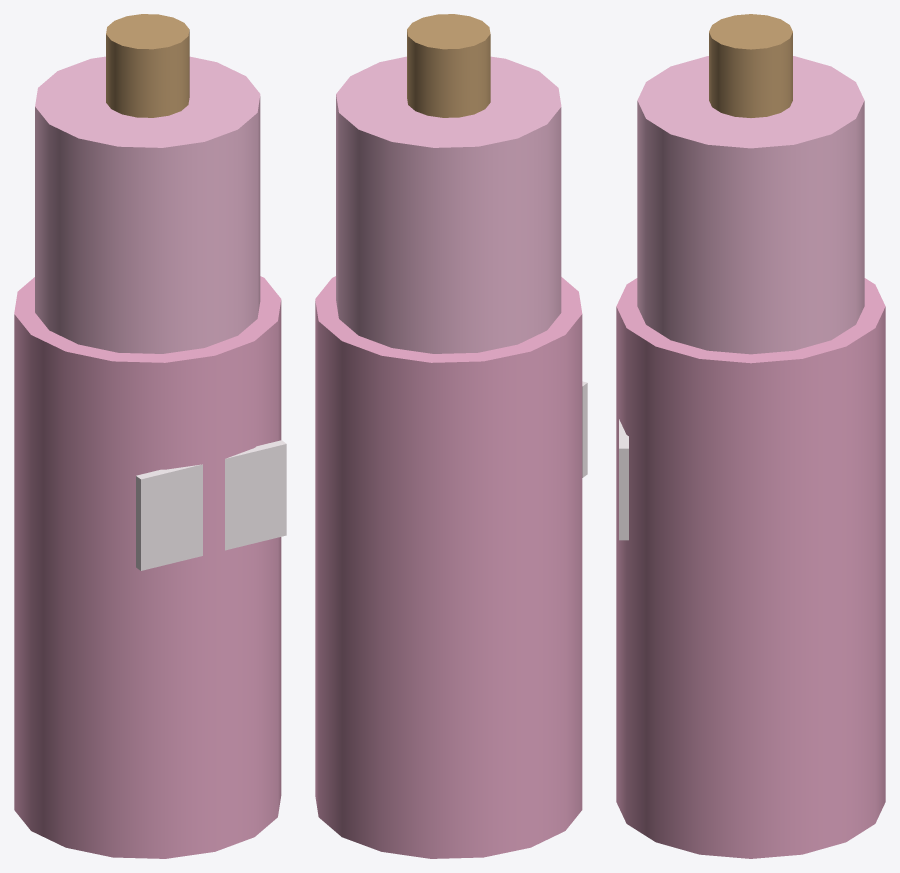
Rendered from TRD-02-03.glb.
3 views of the same model, side by side, from view 1: azimuth 30°, elevation 25°; view 2: azimuth 150°, elevation 25°; view 3: azimuth 270°, elevation 25° (orthographic).
Parts seen in each view (by area): view 1: TRD-02-03; view 2: TRD-02-03; view 3: TRD-02-03.
Part boxes in pixels (<box>): TRD-02-03: <box>14,14,286,858</box>; TRD-02-03: <box>315,14,587,858</box>; TRD-02-03: <box>616,14,885,858</box>.
Size of the model in its own units: 0.32 by 1.01 by 0.32.
